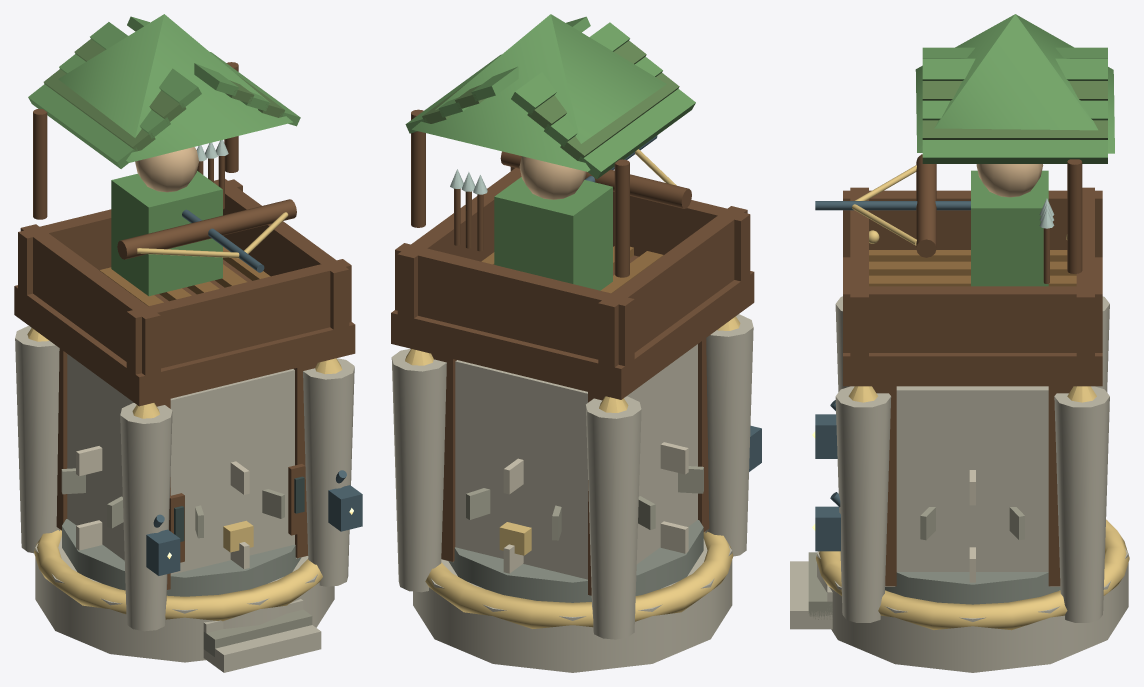
File: tower-arrow-2-base.glb
3 renders of one model, left to right at view 1: azimuth 30°, elevation 25°; view 2: azimuth 150°, elevation 25°; view 3: azimuth 270°, elevation 25°, orthographic. The views are drawn at different scales.
Visible parts, largest first — view 1: Turret, Foundation, arrow-L2-base; view 2: Turret, Foundation, arrow-L2-base; view 3: Turret, Foundation, arrow-L2-base.
Boxes of the visible parts, x1=… form: Turret: x1=14, y1=14, x2=355, y2=406; Foundation: x1=15, y1=326, x2=362, y2=672; arrow-L2-base: x1=35, y1=519, x2=334, y2=662; Turret: x1=391, y1=14, x2=754, y2=399; Foundation: x1=391, y1=314, x2=761, y2=639; arrow-L2-base: x1=413, y1=520, x2=732, y2=672; Turret: x1=815, y1=14, x2=1114, y2=386; Foundation: x1=790, y1=296, x2=1129, y2=630; arrow-L2-base: x1=817, y1=520, x2=1128, y2=672.
Size of the model in its own units: 1.69 by 3.53 by 1.83.
